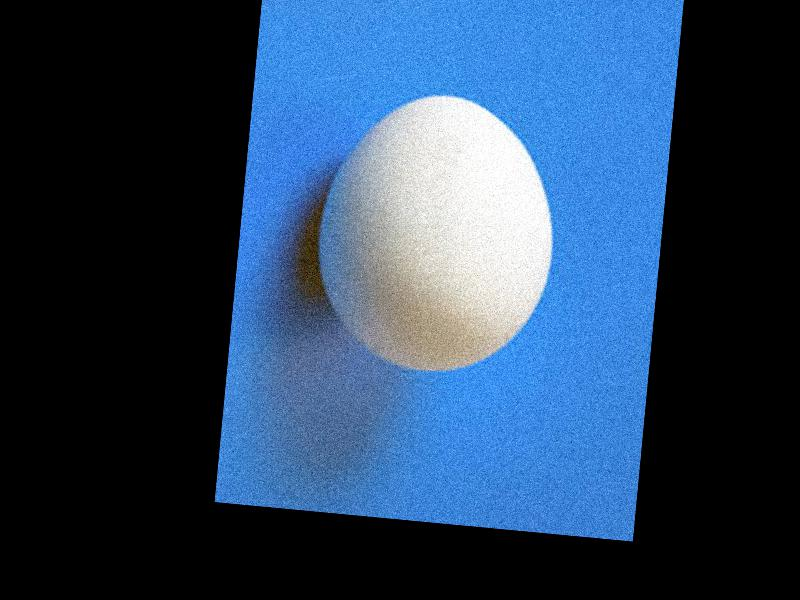Eggs: (305, 81, 565, 383)
